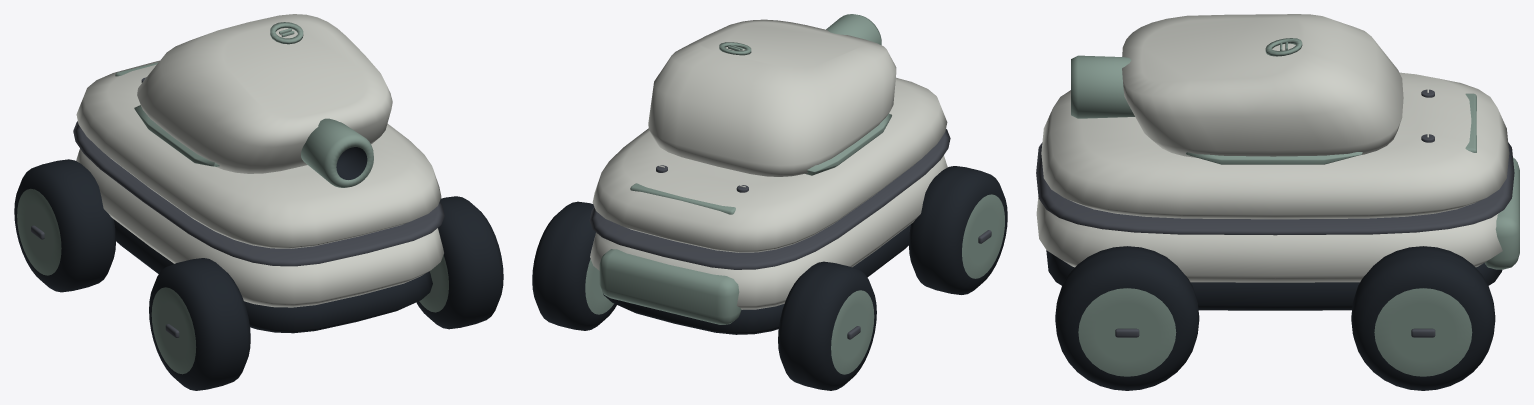
Rendered from TOY_GHOST.hi.glb.
The picture shows the model from 3 angles, left to right: view 1: azimuth 30°, elevation 25°; view 2: azimuth 150°, elevation 25°; view 3: azimuth 270°, elevation 25°; orthographic projection. The views are drawn at different scales.
Parts seen in each view (by area): view 1: Body, TurretYaw, WheelsFront, WheelsRear, BarrelRecoil; view 2: Body, TurretYaw, WheelsRear, WheelsFront, BarrelRecoil; view 3: Body, TurretYaw, WheelsRear, WheelsFront, BarrelRecoil.
Part boxes in pixels (x1,y1,x2,y2): Body: [73, 60, 444, 333]; TurretYaw: [134, 14, 392, 173]; WheelsFront: [149, 196, 503, 390]; WheelsRear: [14, 159, 115, 292]; BarrelRecoil: [301, 118, 373, 187]; Body: [589, 77, 950, 334]; TurretYaw: [648, 19, 896, 176]; WheelsRear: [532, 201, 876, 390]; WheelsFront: [909, 166, 1007, 294]; BarrelRecoil: [826, 14, 881, 44]; Body: [1036, 72, 1519, 310]; TurretYaw: [1122, 14, 1403, 164]; WheelsRear: [1351, 246, 1495, 390]; WheelsFront: [1055, 246, 1199, 390]; BarrelRecoil: [1071, 55, 1134, 118].
Size of the model in its own units: 0.688 by 0.5568 by 0.8409.
